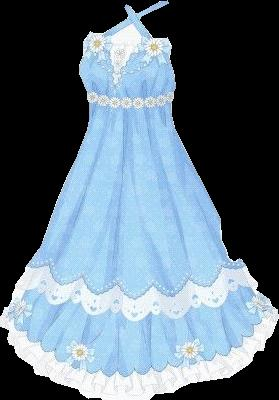Bodice: (79, 31, 175, 102)
Hemline: (0, 316, 278, 399), (4, 305, 274, 377), (25, 261, 247, 303), (14, 284, 257, 321)
Neckline: (102, 34, 146, 86)
Skirt: (0, 96, 278, 399)
Waistline: (86, 94, 173, 105)
